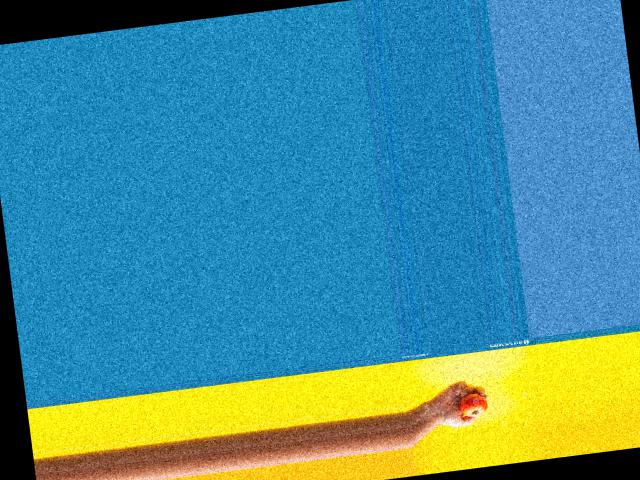tomato: (458, 391, 487, 417)
